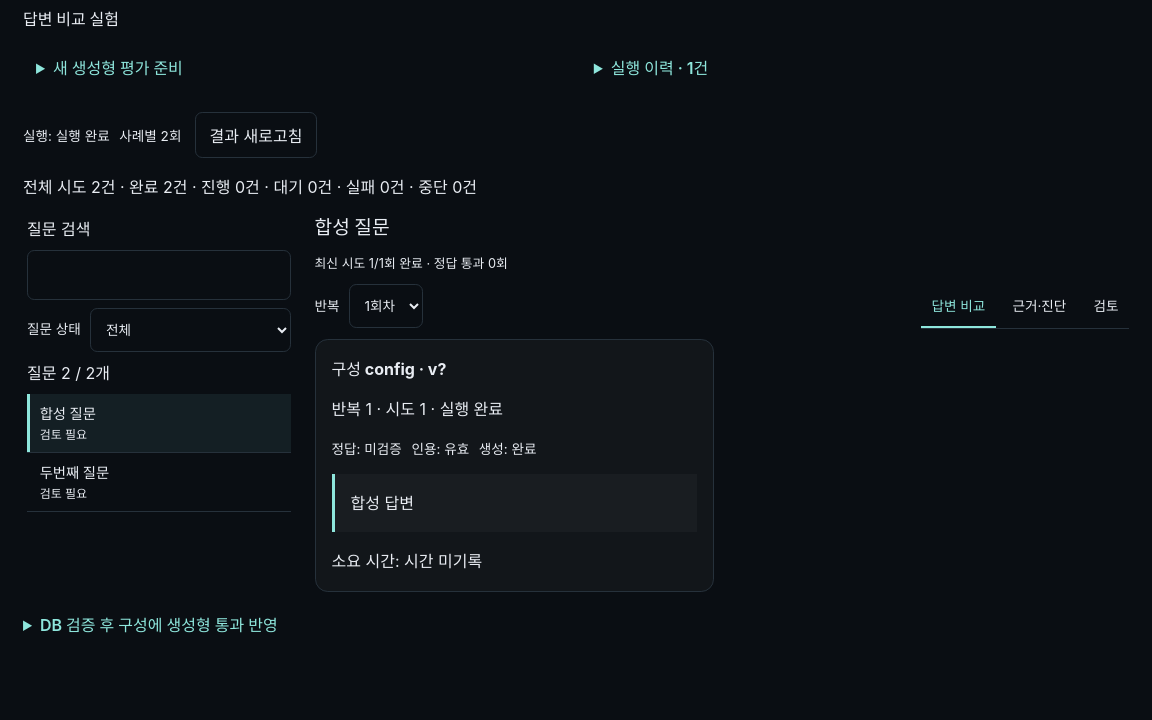
Test: keeps a newer question selection when an earlier refresh response arrives
Expected: the text "합성 답변" is shown, [332,474,697,532]
Click the button "결과 새로고침".
click(256, 135)  # box [195,112,317,158]
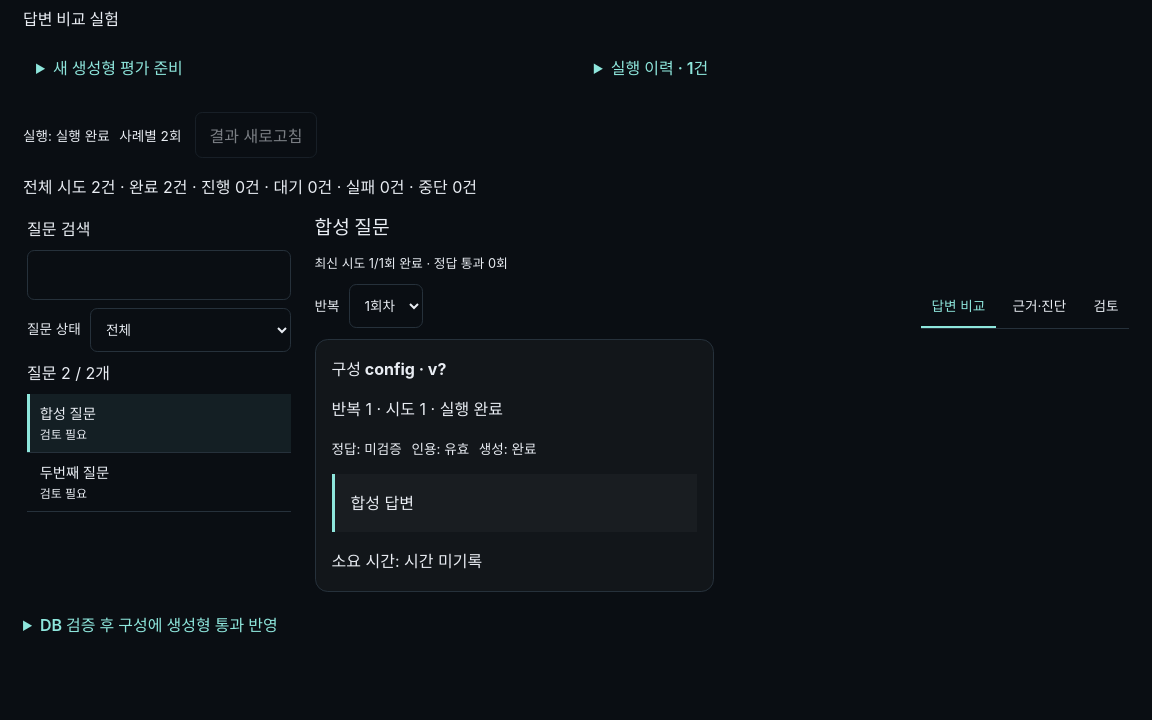
Click the button "두번째 질문 검토 필요".
click(74, 472)  # box [27,453,290,511]
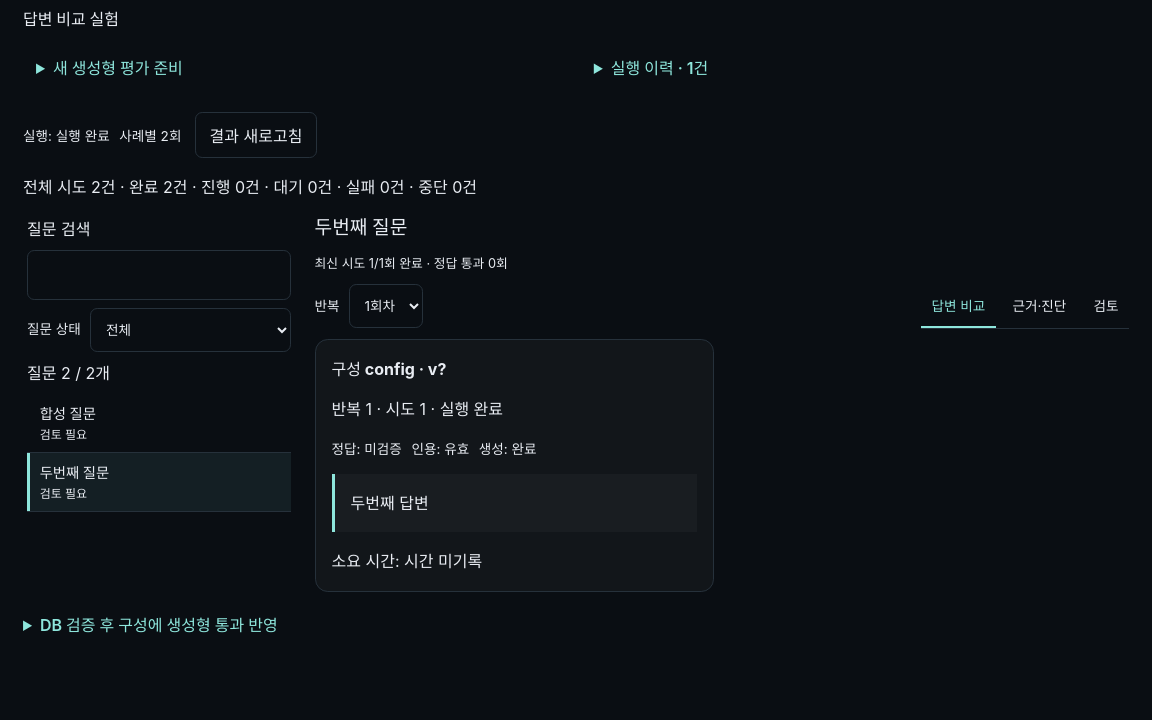
Now the text "두번째 답변" is shown, box [332,474,697,532]
Now the text "합성 답변" is gone
